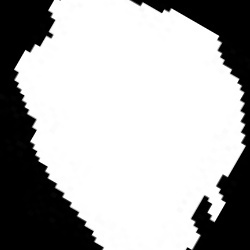spot: (17, 3, 246, 247)
